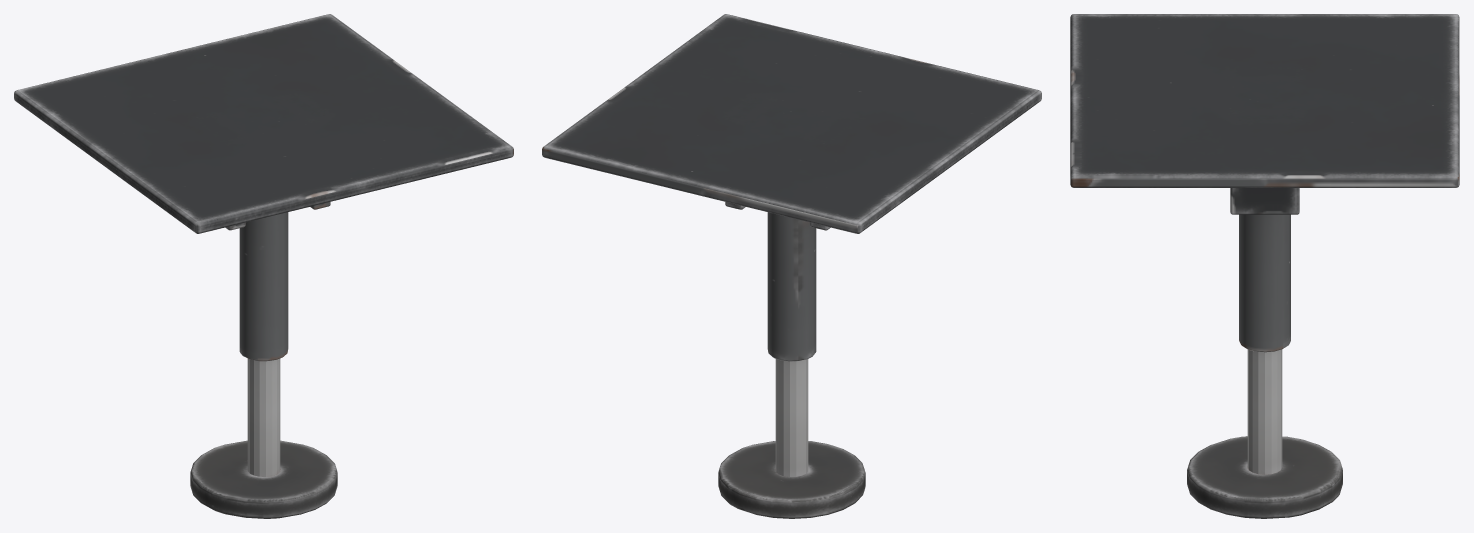
The model's file is SM_PartLandingGear.glb.
The picture shows the model from 3 angles, left to right: view 1: azimuth 30°, elevation 25°; view 2: azimuth 150°, elevation 25°; view 3: azimuth 270°, elevation 25°; orthographic projection. The views are drawn at different scales.
Parts seen in each view (by area): view 1: SM_PartLandingGear, SM_PartLandingGear_Foot, SM_PartLandingGear_Leg; view 2: SM_PartLandingGear, SM_PartLandingGear_Foot, SM_PartLandingGear_Leg; view 3: SM_PartLandingGear, SM_PartLandingGear_Foot, SM_PartLandingGear_Leg.
Part boxes in pixels (x1,y1,x2,y2): SM_PartLandingGear: [14, 14, 513, 233]; SM_PartLandingGear_Foot: [190, 358, 337, 518]; SM_PartLandingGear_Leg: [239, 212, 288, 361]; SM_PartLandingGear: [542, 14, 1041, 233]; SM_PartLandingGear_Foot: [718, 359, 865, 518]; SM_PartLandingGear_Leg: [767, 212, 816, 361]; SM_PartLandingGear: [1070, 14, 1459, 214]; SM_PartLandingGear_Foot: [1187, 349, 1342, 518]; SM_PartLandingGear_Leg: [1239, 214, 1290, 352].
Bounding box in the file's own units: 0.9 × 1 × 0.9.
Materials: 3 (3 with a texture image).
